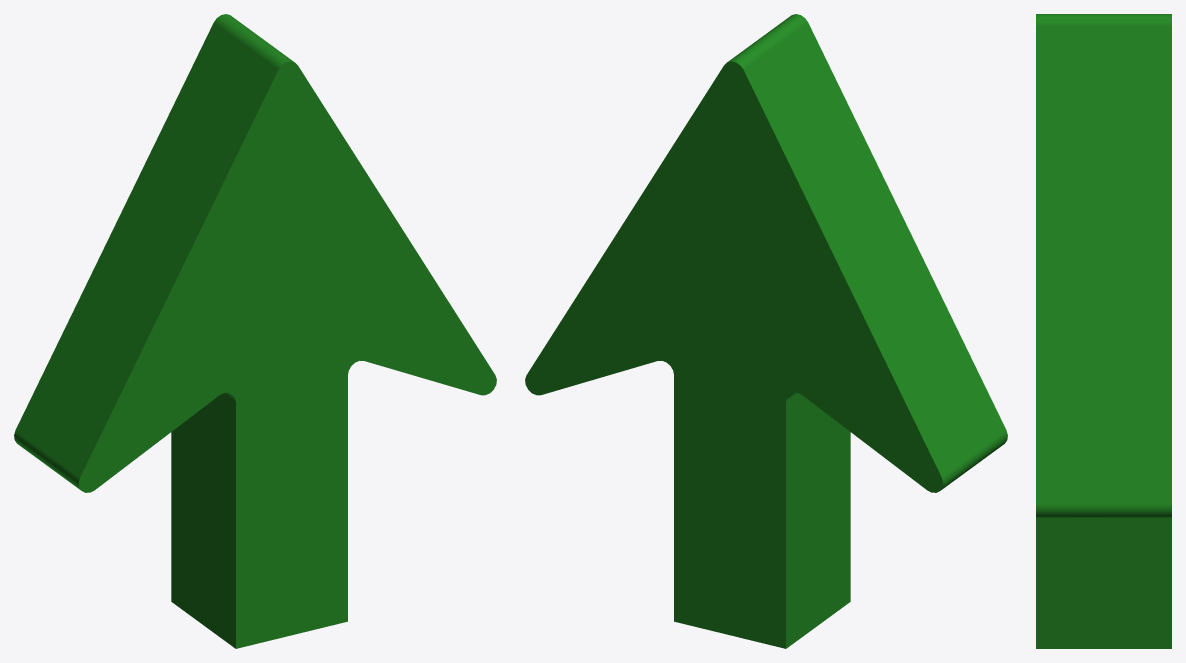
Rendered from arrow.obj.
3 renders of one model, left to right at view 1: azimuth 30°, elevation 25°; view 2: azimuth 150°, elevation 25°; view 3: azimuth 270°, elevation 25°, orthographic. The views are drawn at different scales.
Visible parts, largest first — view 1: Solid1; view 2: Solid1; view 3: Solid1.
Boxes of the visible parts, bbox=[...] form: Solid1: bbox=[14, 14, 496, 648]; Solid1: bbox=[525, 14, 1007, 648]; Solid1: bbox=[1036, 14, 1171, 648].
Size of the model in its own units: 3.73 by 4.9 by 1.
